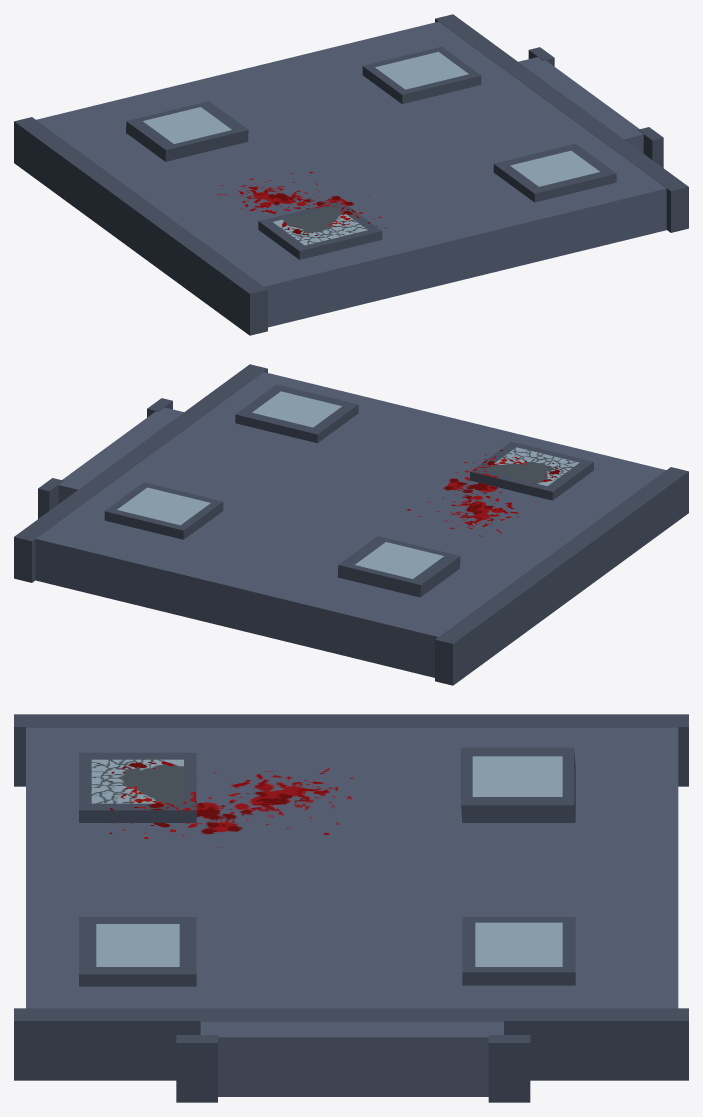
Rendered from Krov_2.fbx.
3 views of the same model, one above another, from view 1: azimuth 30°, elevation 25°; view 2: azimuth 150°, elevation 25°; view 3: azimuth 270°, elevation 25° (orthographic). The views are drawn at different scales.
Parts seen in each view (by area): view 1: Krov_2; view 2: Krov_2; view 3: Krov_2.
Boxes of the visible parts, bbox=[...] form: Krov_2: bbox=[14, 14, 688, 335]; Krov_2: bbox=[14, 364, 688, 685]; Krov_2: bbox=[14, 714, 688, 1102].
Size of the model in its own units: 454 by 49.75 by 394.
Materials: 1 (1 with a texture image).
